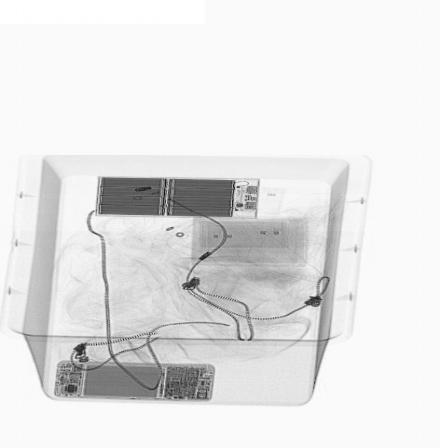Powerbank: (97, 173, 261, 219)
